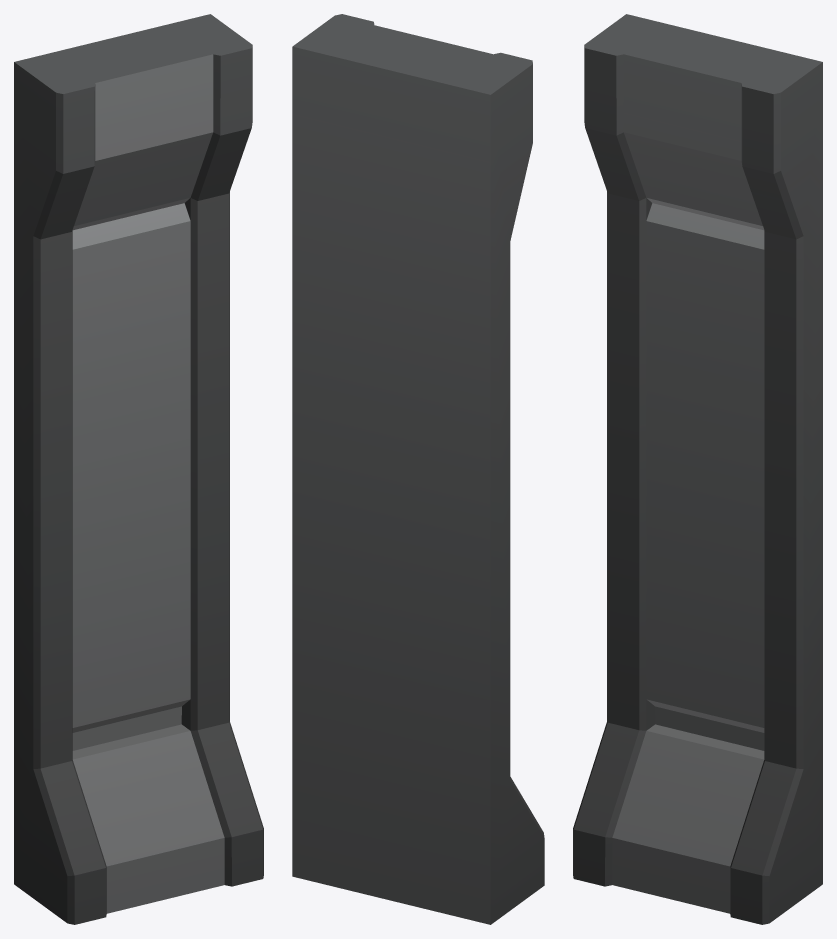
Rendered from wall_t_junction_damaged.glb.
The picture shows the model from 3 angles, left to right: view 1: azimuth 30°, elevation 25°; view 2: azimuth 150°, elevation 25°; view 3: azimuth 330°, elevation 25°; orthographic projection.
Parts seen in each view (by area): view 1: Wall_type_B_005; view 2: Wall_type_B_005; view 3: Wall_type_B_005.
Boxes of the visible parts, x1,y1,x2,y2 form: Wall_type_B_005: (14,14,263,924); Wall_type_B_005: (292,14,544,924); Wall_type_B_005: (573,14,822,924).
Bounding box in the file's own units: 1 × 4 × 0.5.
Materials: 1 (1 with a texture image).
